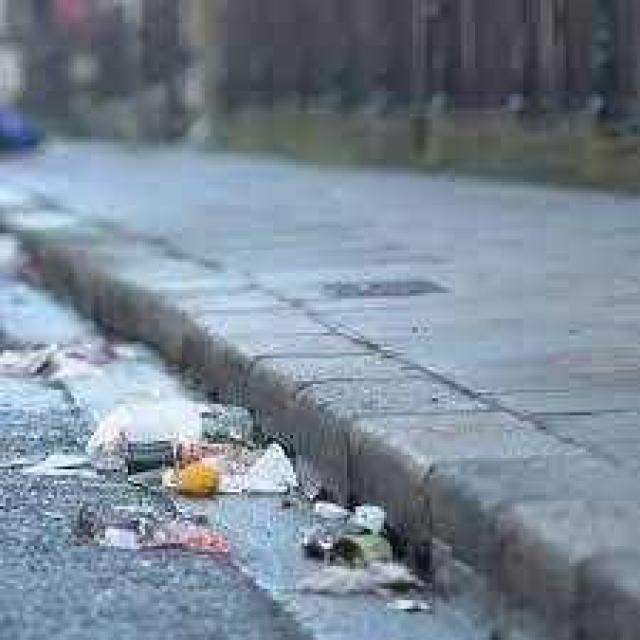bump: (280, 381, 624, 640)
